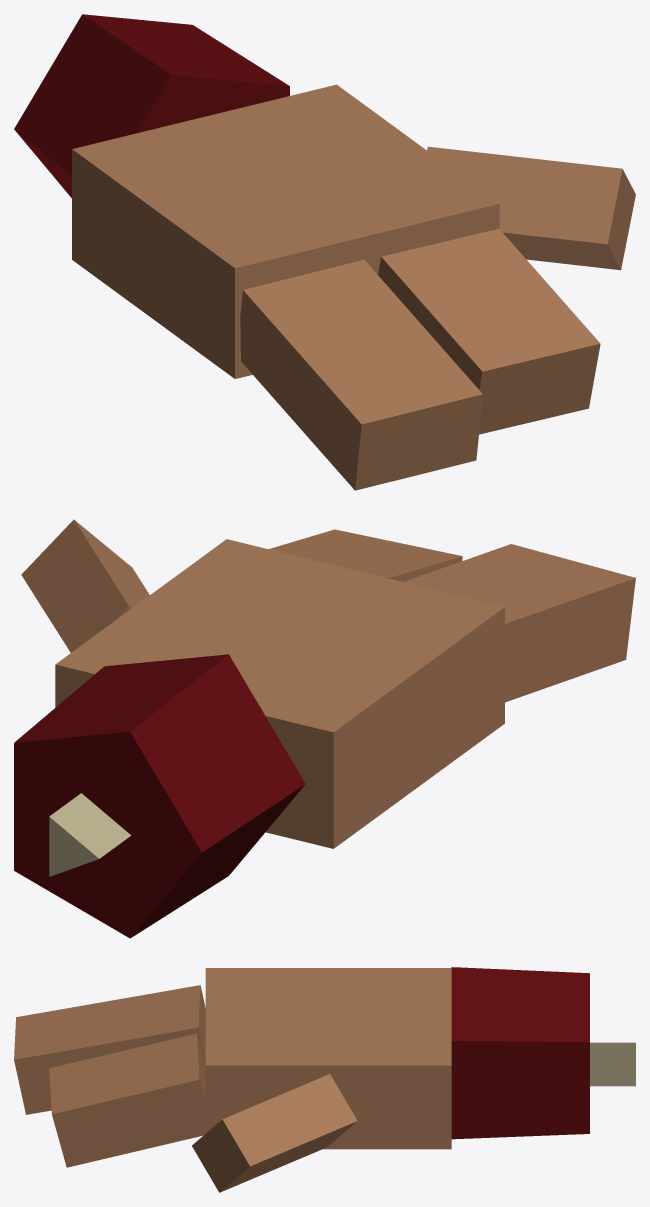
File: gib_08.glb
The picture shows the model from 3 angles, top to bottom: view 1: azimuth 30°, elevation 25°; view 2: azimuth 150°, elevation 25°; view 3: azimuth 270°, elevation 25°; orthographic projection. The views are drawn at different scales.
Parts seen in each view (by area): view 1: gib_08; view 2: gib_08; view 3: gib_08.
Part boxes in pixels (x1,y1,x2,y2): gib_08: (14, 14, 635, 490); gib_08: (14, 519, 635, 938); gib_08: (14, 967, 635, 1192).
Bounding box in the file's own units: 0.122 × 0.0571 × 0.2023.
